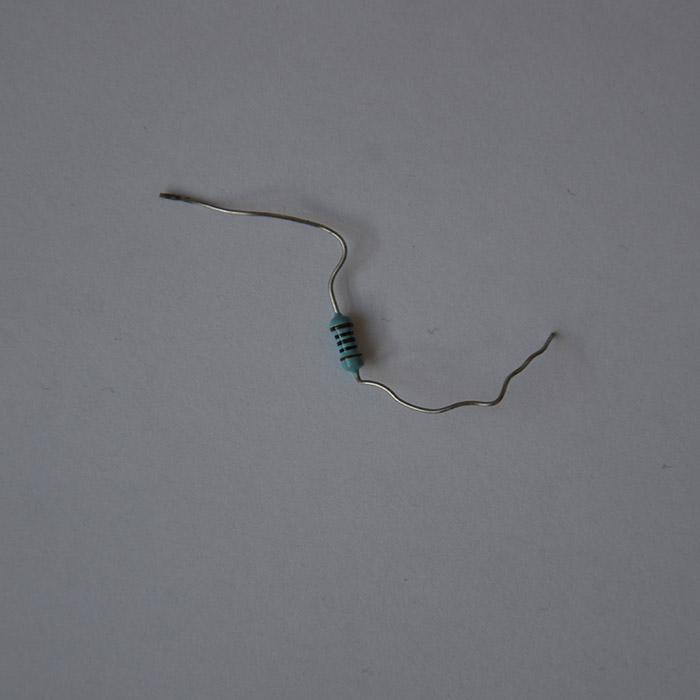resistor: (327, 310, 363, 374)
